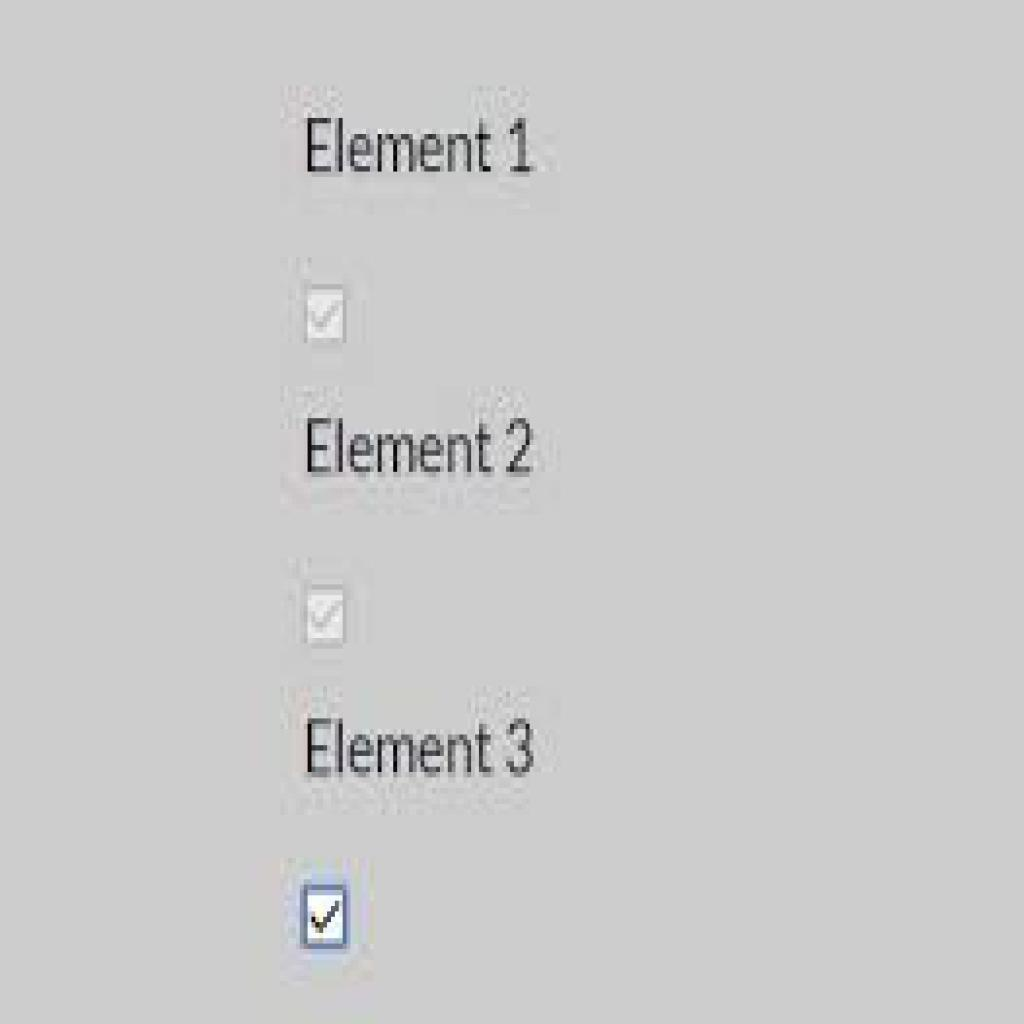checkbox: (305, 885, 350, 949), (305, 286, 350, 347), (304, 586, 349, 647)
